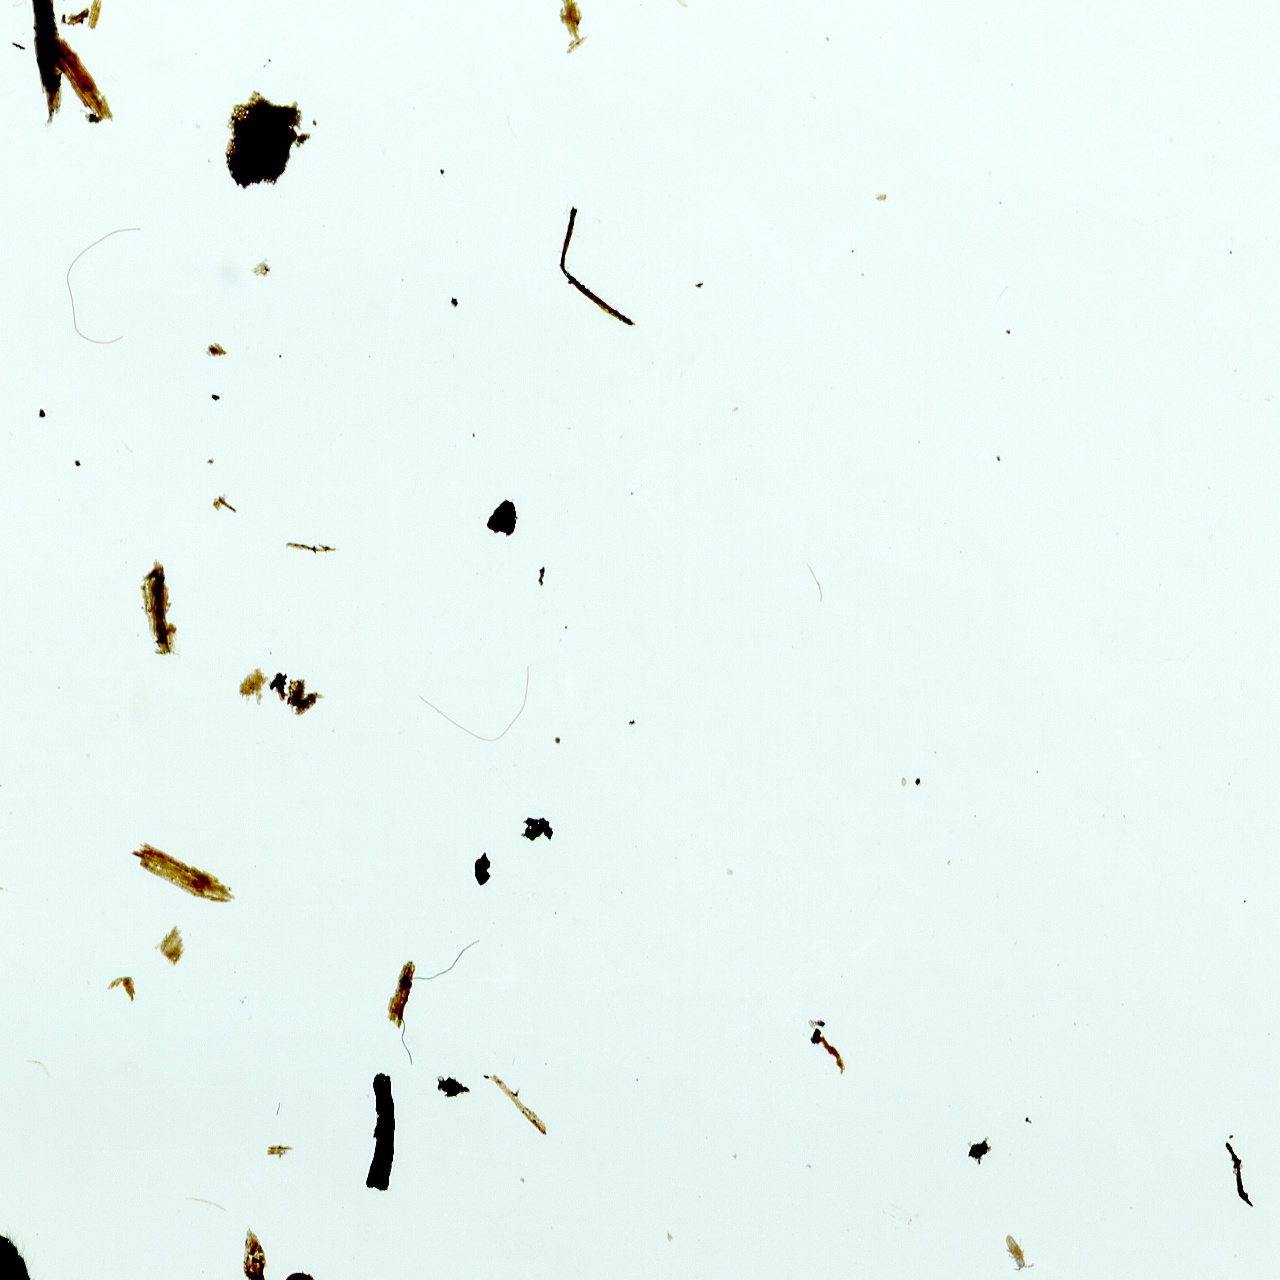arthropod: (0, 1143, 114, 1280), (995, 1226, 1040, 1280), (282, 1268, 324, 1280)
